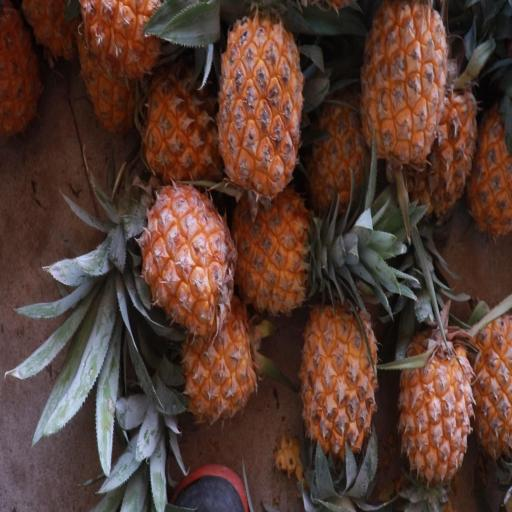Pineapple - v8 v1: (218, 5, 304, 199), (299, 301, 380, 503), (137, 182, 237, 344), (356, 4, 450, 170), (398, 320, 476, 512), (228, 181, 321, 323), (142, 52, 228, 196), (177, 288, 262, 430), (469, 302, 512, 464)
